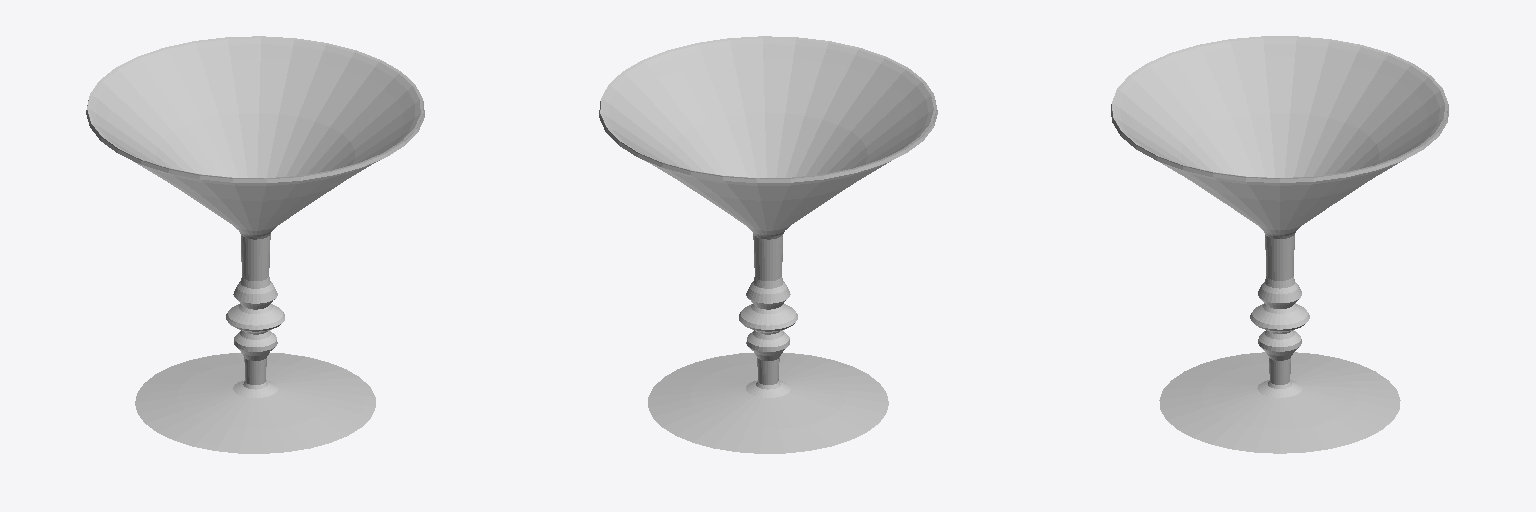
File: sor.obj
The picture shows the model from 3 angles: view 1: azimuth 30°, elevation 25°; view 2: azimuth 150°, elevation 25°; view 3: azimuth 270°, elevation 25°; orthographic projection.
Size of the model in its own units: 1.2 by 1.17 by 1.21.